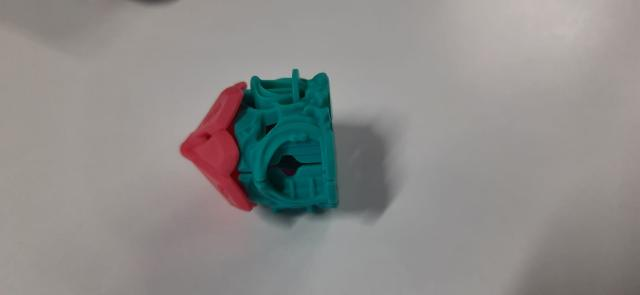House: (172, 62, 350, 222)
